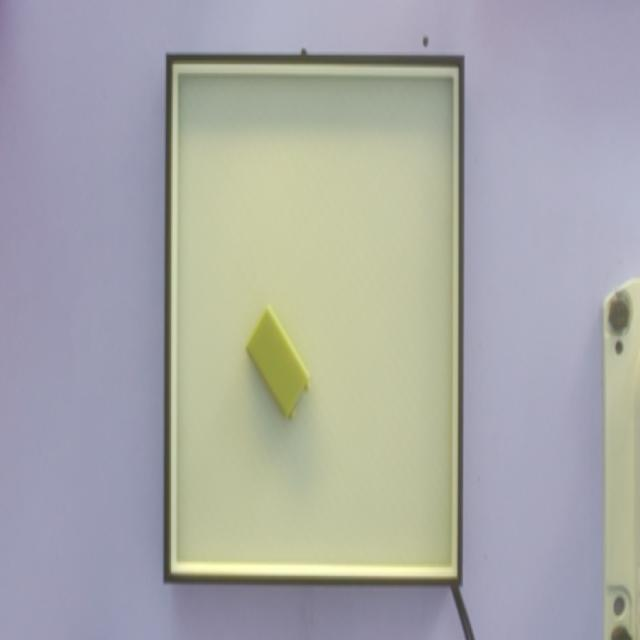bateria: (244, 305, 312, 424)
mesa: (163, 53, 464, 587)
